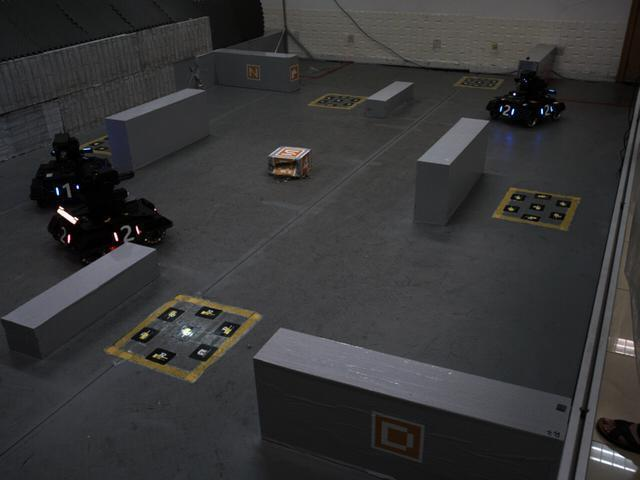armor: (108, 220, 144, 248), (48, 181, 84, 202), (49, 223, 75, 248), (538, 96, 556, 121), (496, 99, 516, 119)
